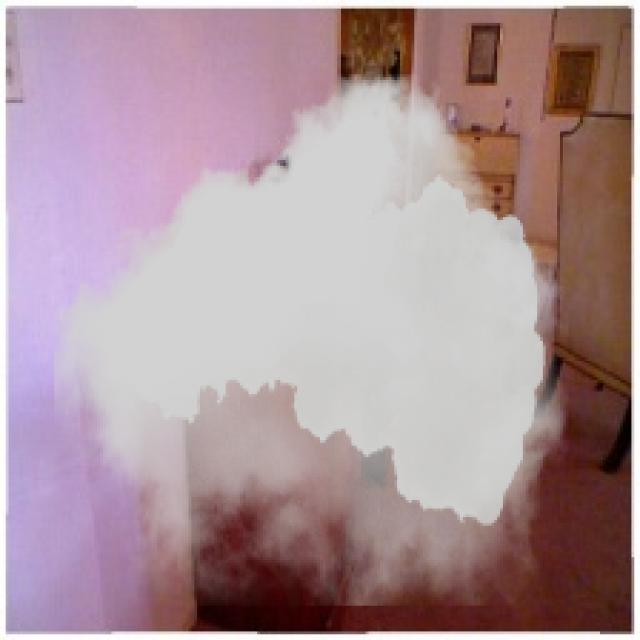smoke: (54, 74, 569, 606)
